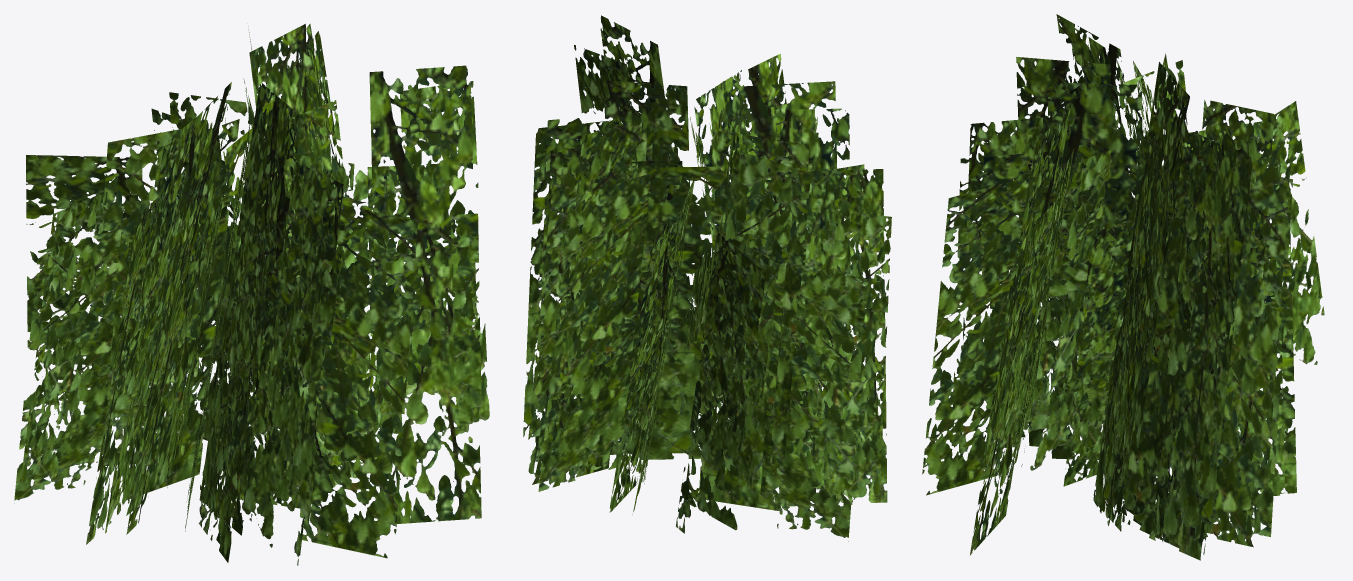
File: grass_tuft.glb
The picture shows the model from 3 angles, left to right: view 1: azimuth 30°, elevation 25°; view 2: azimuth 150°, elevation 25°; view 3: azimuth 270°, elevation 25°; orthographic projection. The views are drawn at different scales.
Parts seen in each view (by area): view 1: _MeshInstance3D_14; view 2: _MeshInstance3D_14; view 3: _MeshInstance3D_14.
Part boxes in pixels (<box>): _MeshInstance3D_14: <box>14,23,489,565</box>; _MeshInstance3D_14: <box>523,15,891,541</box>; _MeshInstance3D_14: <box>922,14,1324,560</box>.
Bounding box in the file's own units: 0.612 × 0.6377 × 0.5656.
Materials: 1 (1 with a texture image).
